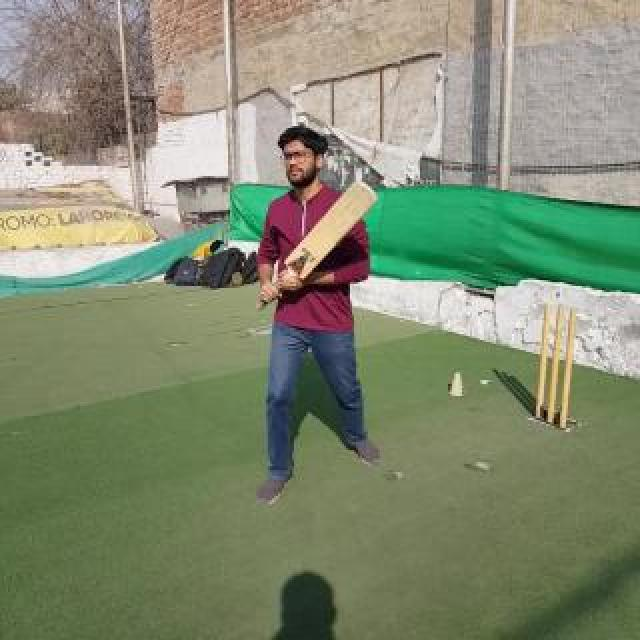bat: (256, 182, 378, 312)
